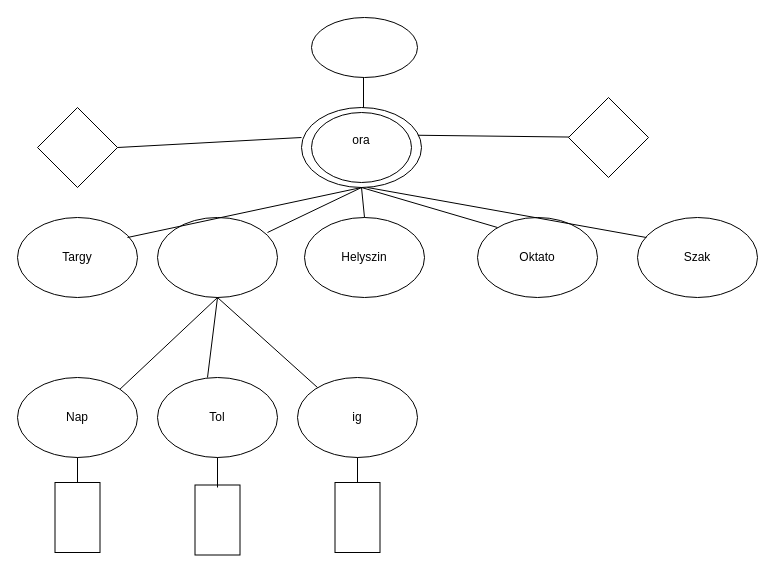
Image size: 775x573. Some labels were removed from this diagram. The centre of each missing label's shape, as x and y in pixels:
"AHWDO6_orarend" belongs at (x=364, y=47).
"ID" belongs at (x=77, y=147).
"Idopont" belongs at (x=217, y=257).
"Tipus" belongs at (x=608, y=137).
